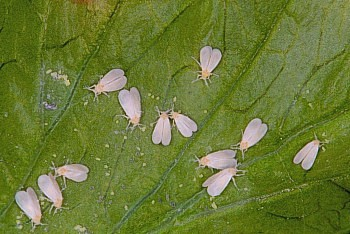whitefly: (232, 118, 267, 159), (202, 163, 244, 197), (14, 187, 47, 228), (191, 43, 221, 87), (117, 88, 145, 133), (37, 173, 69, 212), (85, 68, 126, 98), (294, 132, 325, 169), (166, 106, 198, 139), (194, 149, 237, 171), (51, 160, 89, 184), (151, 104, 172, 147)
